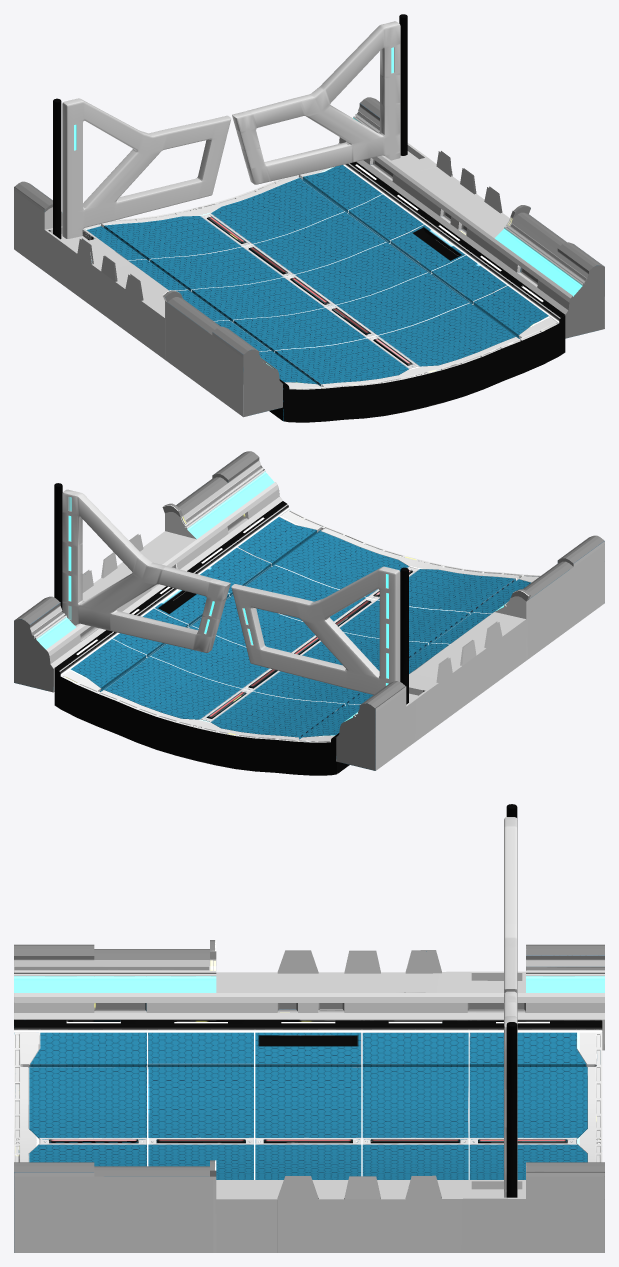
The model's file is Gate_Tile V2.fbx.
3 renders of one model, top to bottom at view 1: azimuth 30°, elevation 25°; view 2: azimuth 150°, elevation 25°; view 3: azimuth 270°, elevation 25°, orthographic. The views are drawn at different scales.
Visible parts, largest first — view 1: Road.002; view 2: Road.002; view 3: Road.002.
Boxes of the visible parts, box(x1,y1,x2,y2) form: Road.002: box(14, 14, 604, 422); Road.002: box(14, 451, 604, 775); Road.002: box(14, 804, 604, 1252).
Size of the model in its own units: 648 by 354 by 703.
